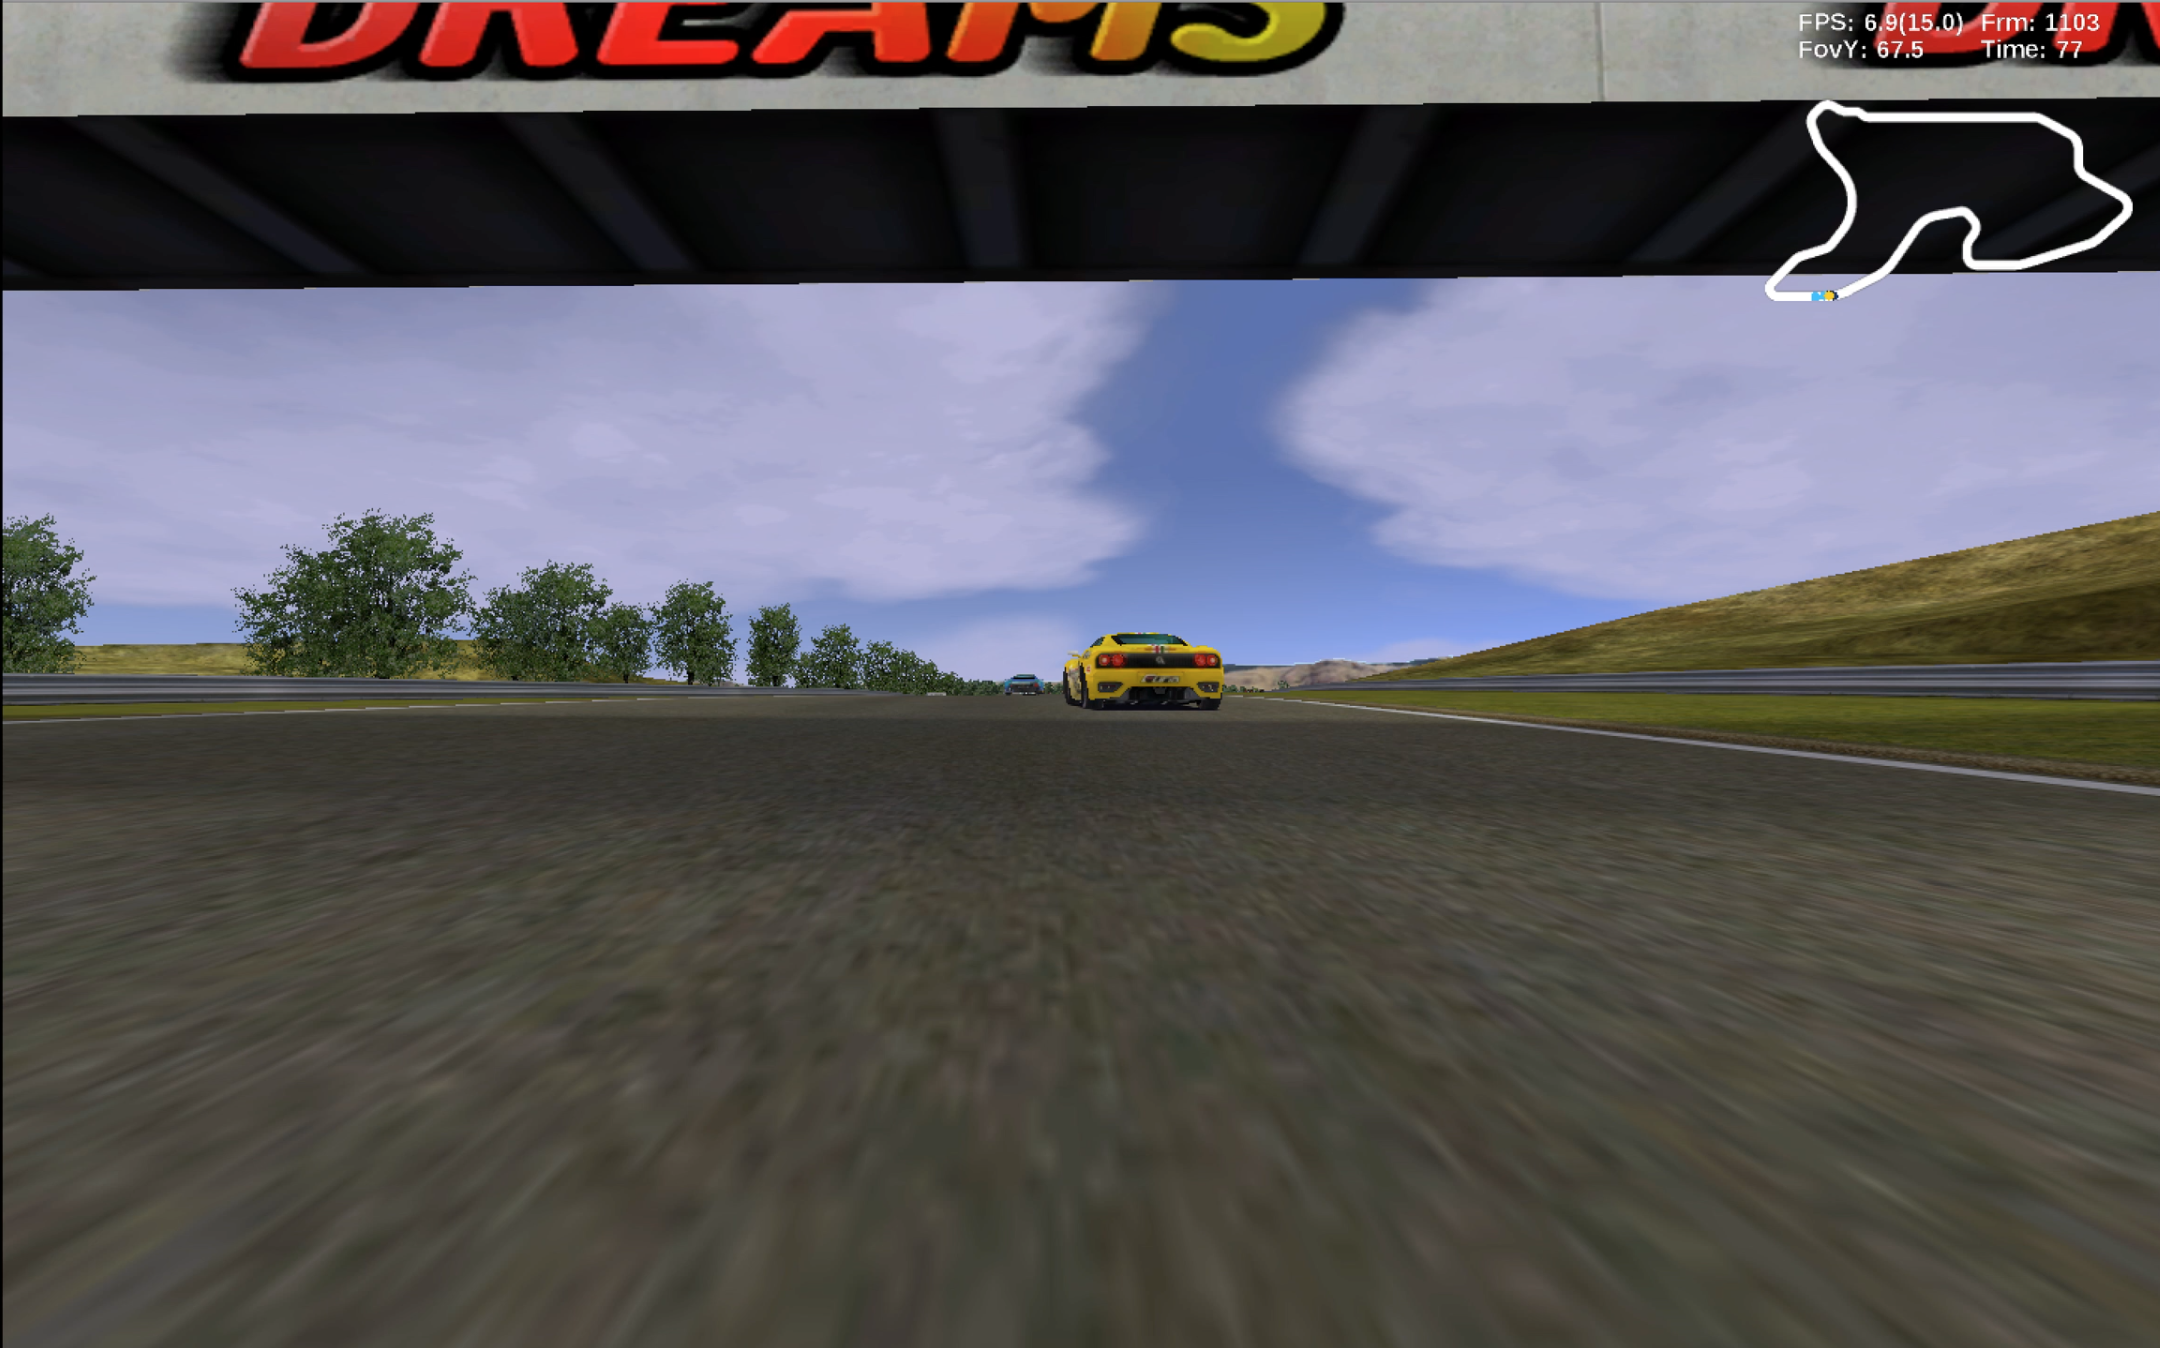Cavallo360: (1061, 631, 1225, 713)
Lynx220: (1005, 672, 1044, 697)
